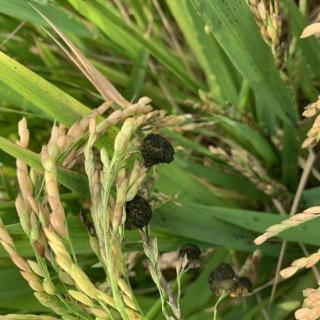Gosong-Palsu: (208, 261, 255, 299), (138, 132, 176, 167), (123, 194, 153, 230), (176, 241, 204, 265)
